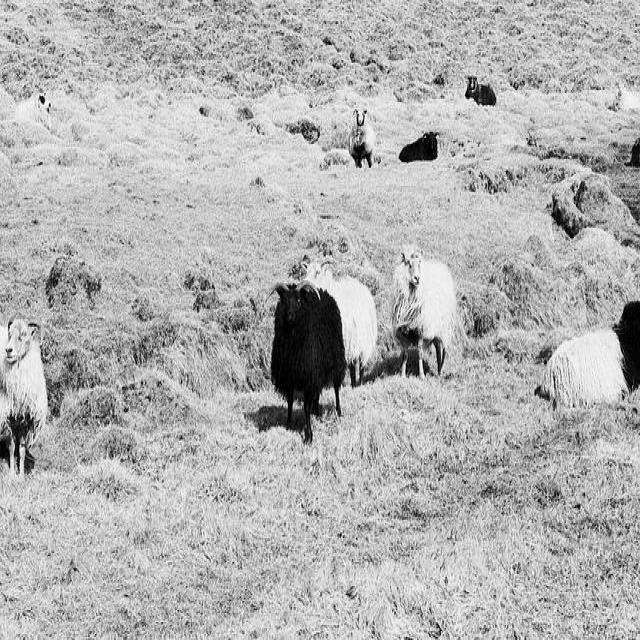Sheep: (265, 280, 347, 441), (542, 298, 638, 408), (302, 262, 382, 391), (392, 244, 456, 380), (1, 312, 47, 481)
